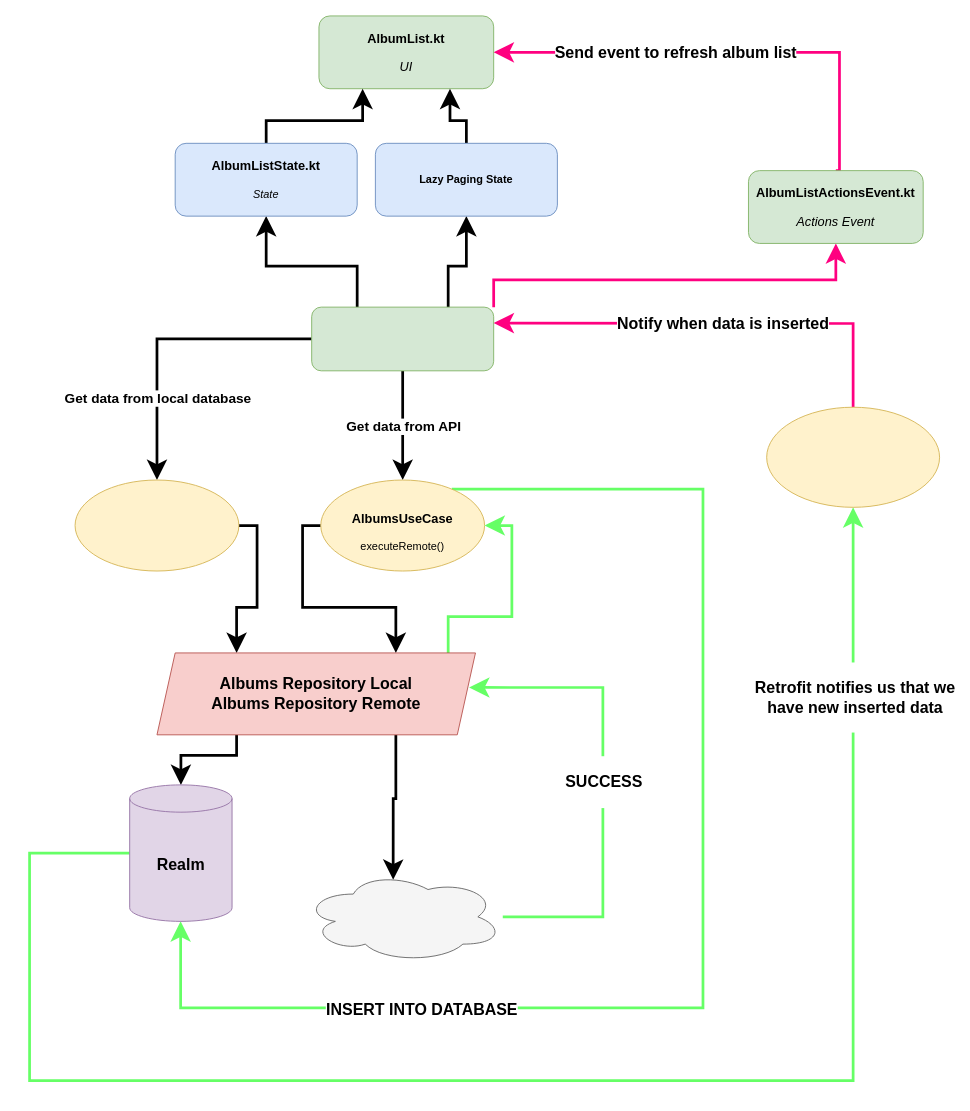
This 970x1111 diagram has some shape labels left out. Each missing label, with the centre of its shape:
"AlbumListVM.kt ViewModel" belongs at (402,338).
"AlbumsNotifyUseCase execute()" belongs at (853,456).
"AlbumsUseCase execute()" belongs at (156,525).
"Retrofit" belongs at (403,916).
